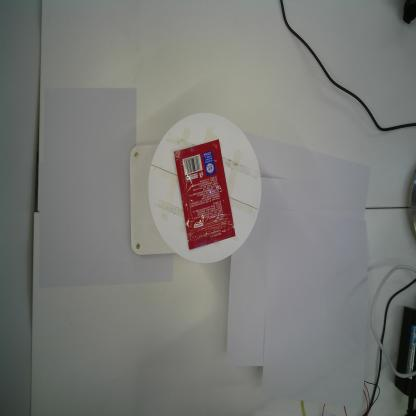Seasoner: (174, 138, 237, 251)
